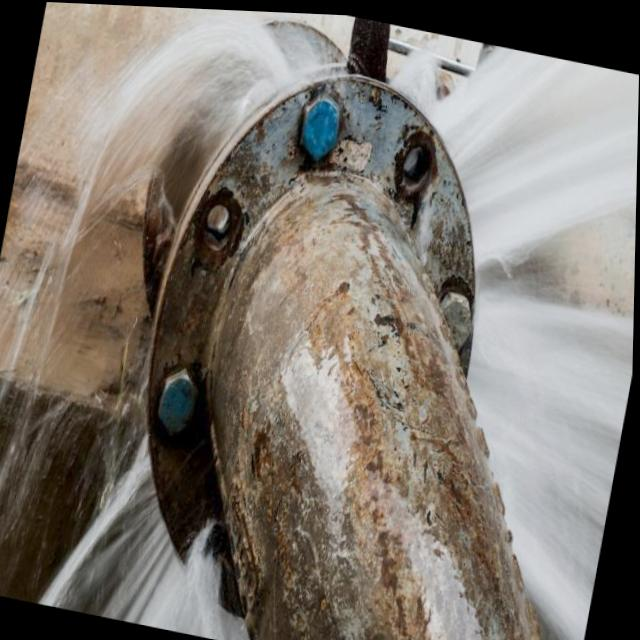leak: (0, 8, 349, 518), (439, 54, 639, 640), (24, 439, 250, 640)
